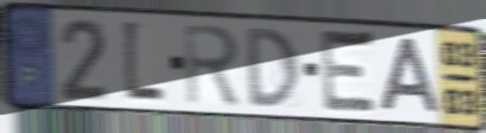2: (57, 15, 112, 104)
A: (375, 35, 444, 116)
D: (243, 25, 304, 110)
E: (319, 24, 380, 119)
L: (120, 17, 168, 107)
R: (181, 21, 243, 108)
